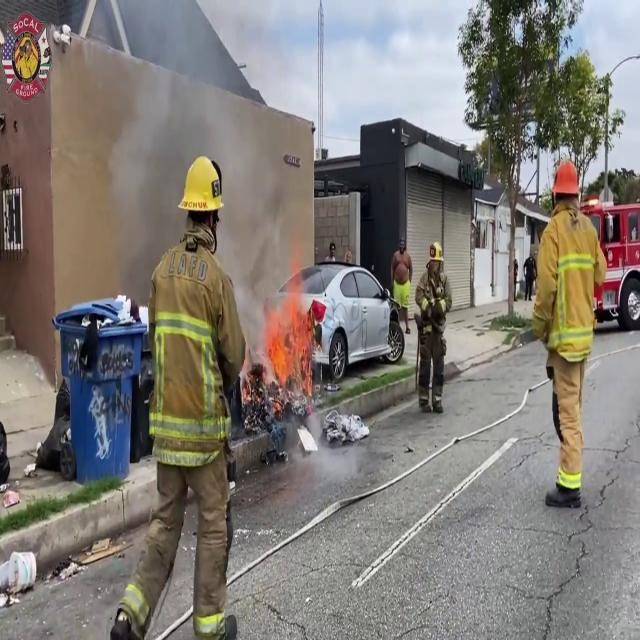Fire: (260, 282, 314, 401)
Smoke: (51, 2, 302, 304)
